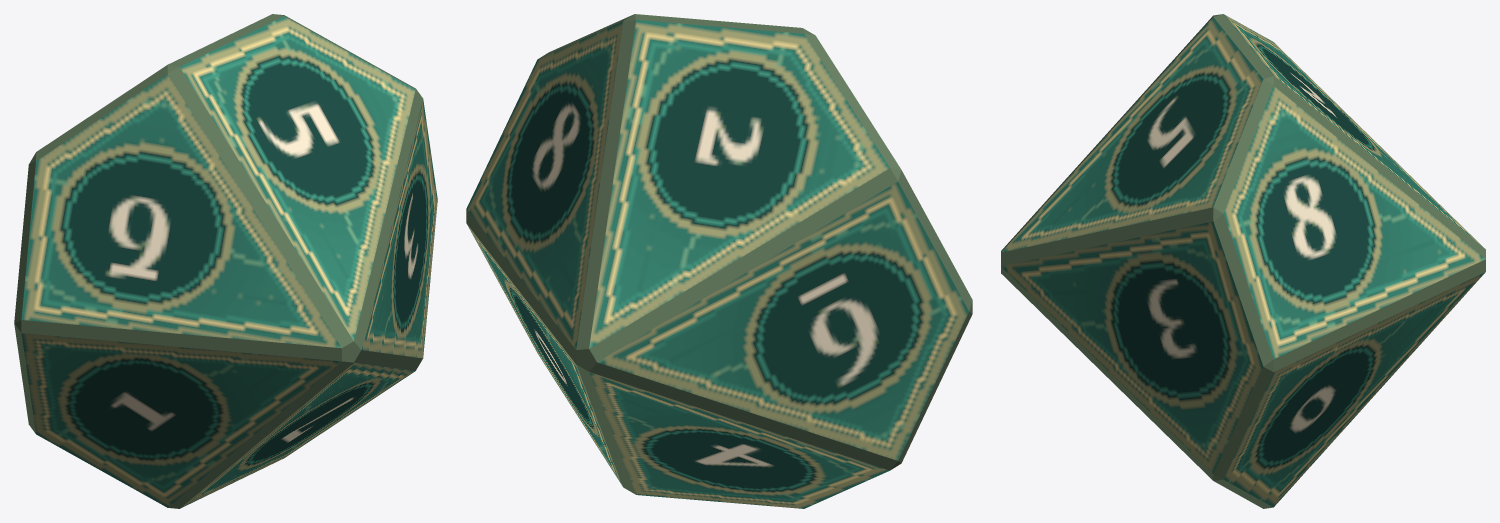
The picture shows the model from 3 angles, left to right: view 1: azimuth 30°, elevation 25°; view 2: azimuth 150°, elevation 25°; view 3: azimuth 270°, elevation 25°; orthographic projection. The views are drawn at different scales.
Bounding box in the file's own units: 188 × 179 × 183.
1 material, 1 textured.
